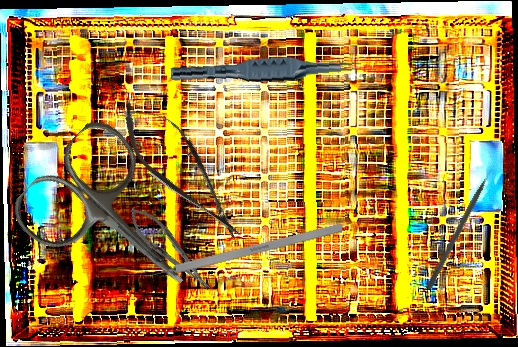Hook Surgical: (133, 222, 345, 284)
Iris Scissors: (3, 110, 229, 335)
Micro Scissor: (106, 87, 259, 255)
Needle Holder: (121, 199, 219, 300)
Pusher: (425, 161, 499, 291)
Tissue Forceps: (170, 49, 362, 93)
